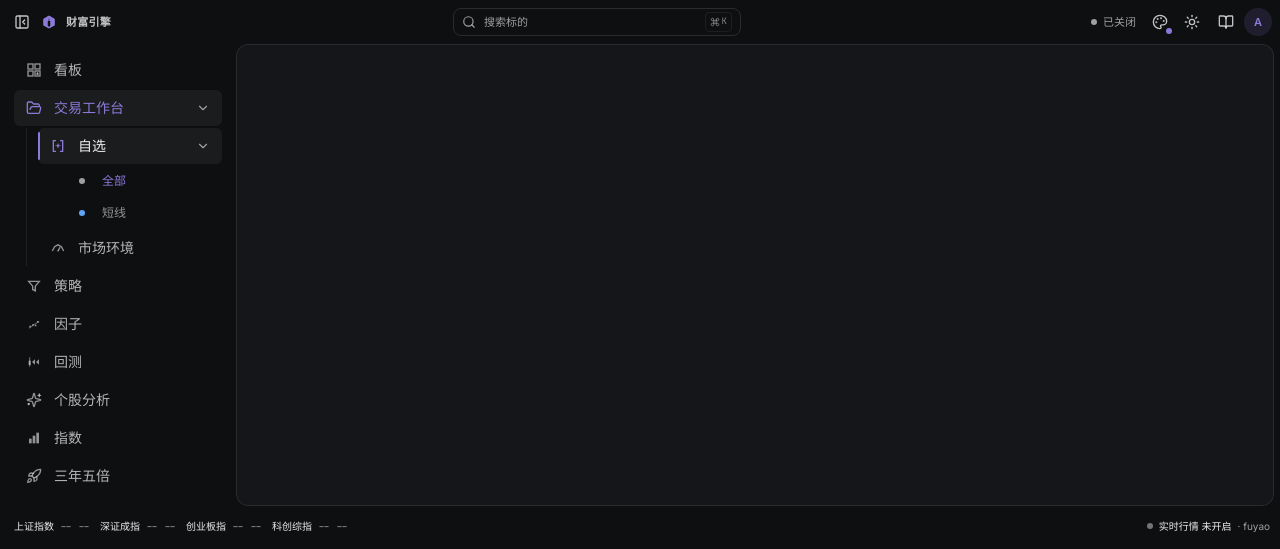
it: expands the active folder, preserves watchlist groups and stops hidden group-stat queries
Click the button with aria-label "交易工作台" at (118,108), box left=14, top=90, right=222, bottom=126
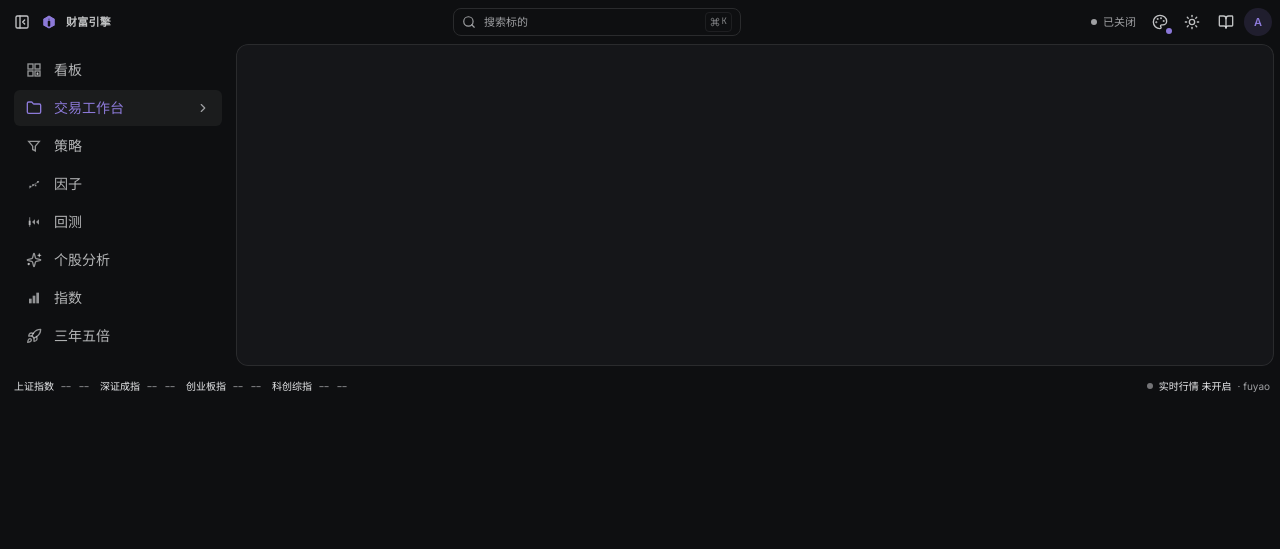
Result: the button with aria-label "交易工作台" is collapsed at left=14, top=90, right=222, bottom=126
// 管理后台入口在账户下拉内: 超级管理员应能看到
Click the button named "账户菜单" at (1258,22), box left=1244, top=8, right=1272, bottom=36
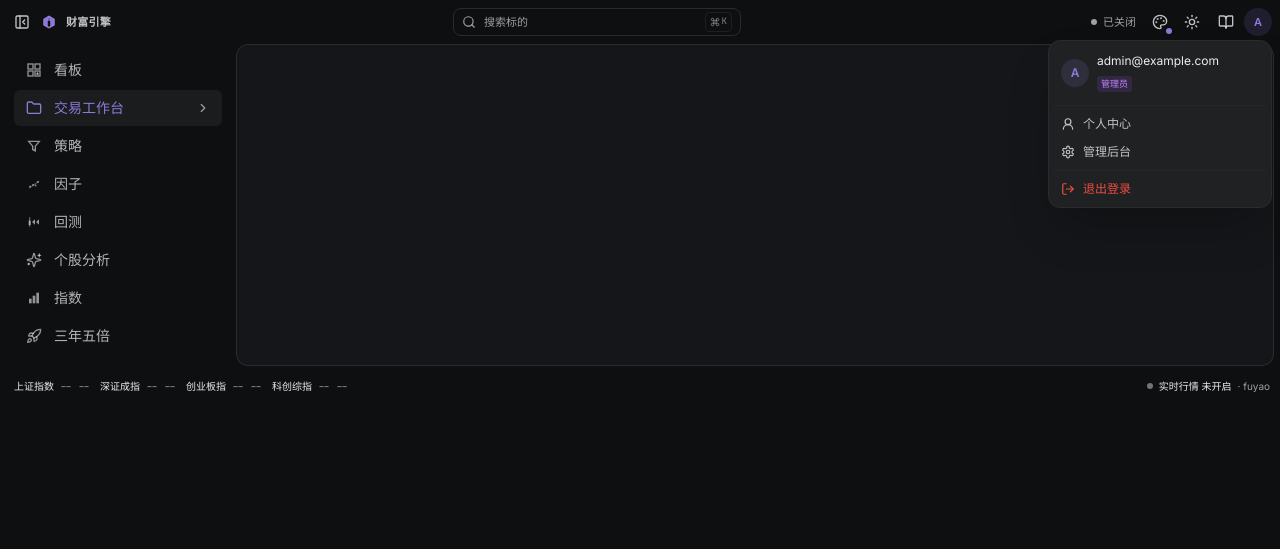
Result: the menu item to "/admin?tab=pages&section=menus" is shown at left=1061, top=144, right=1131, bottom=159
